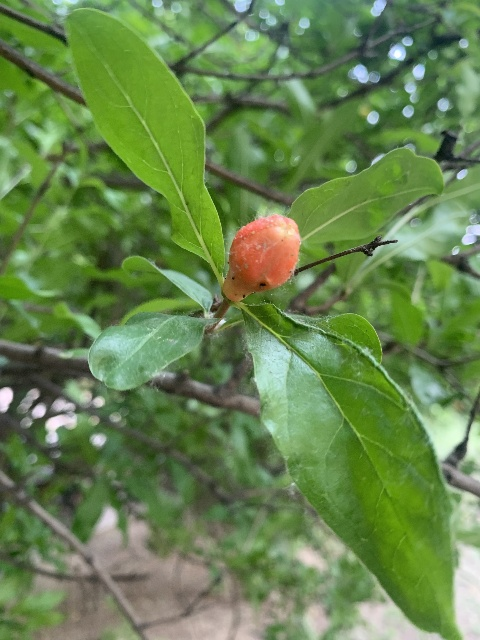bud: (223, 214, 300, 302)
